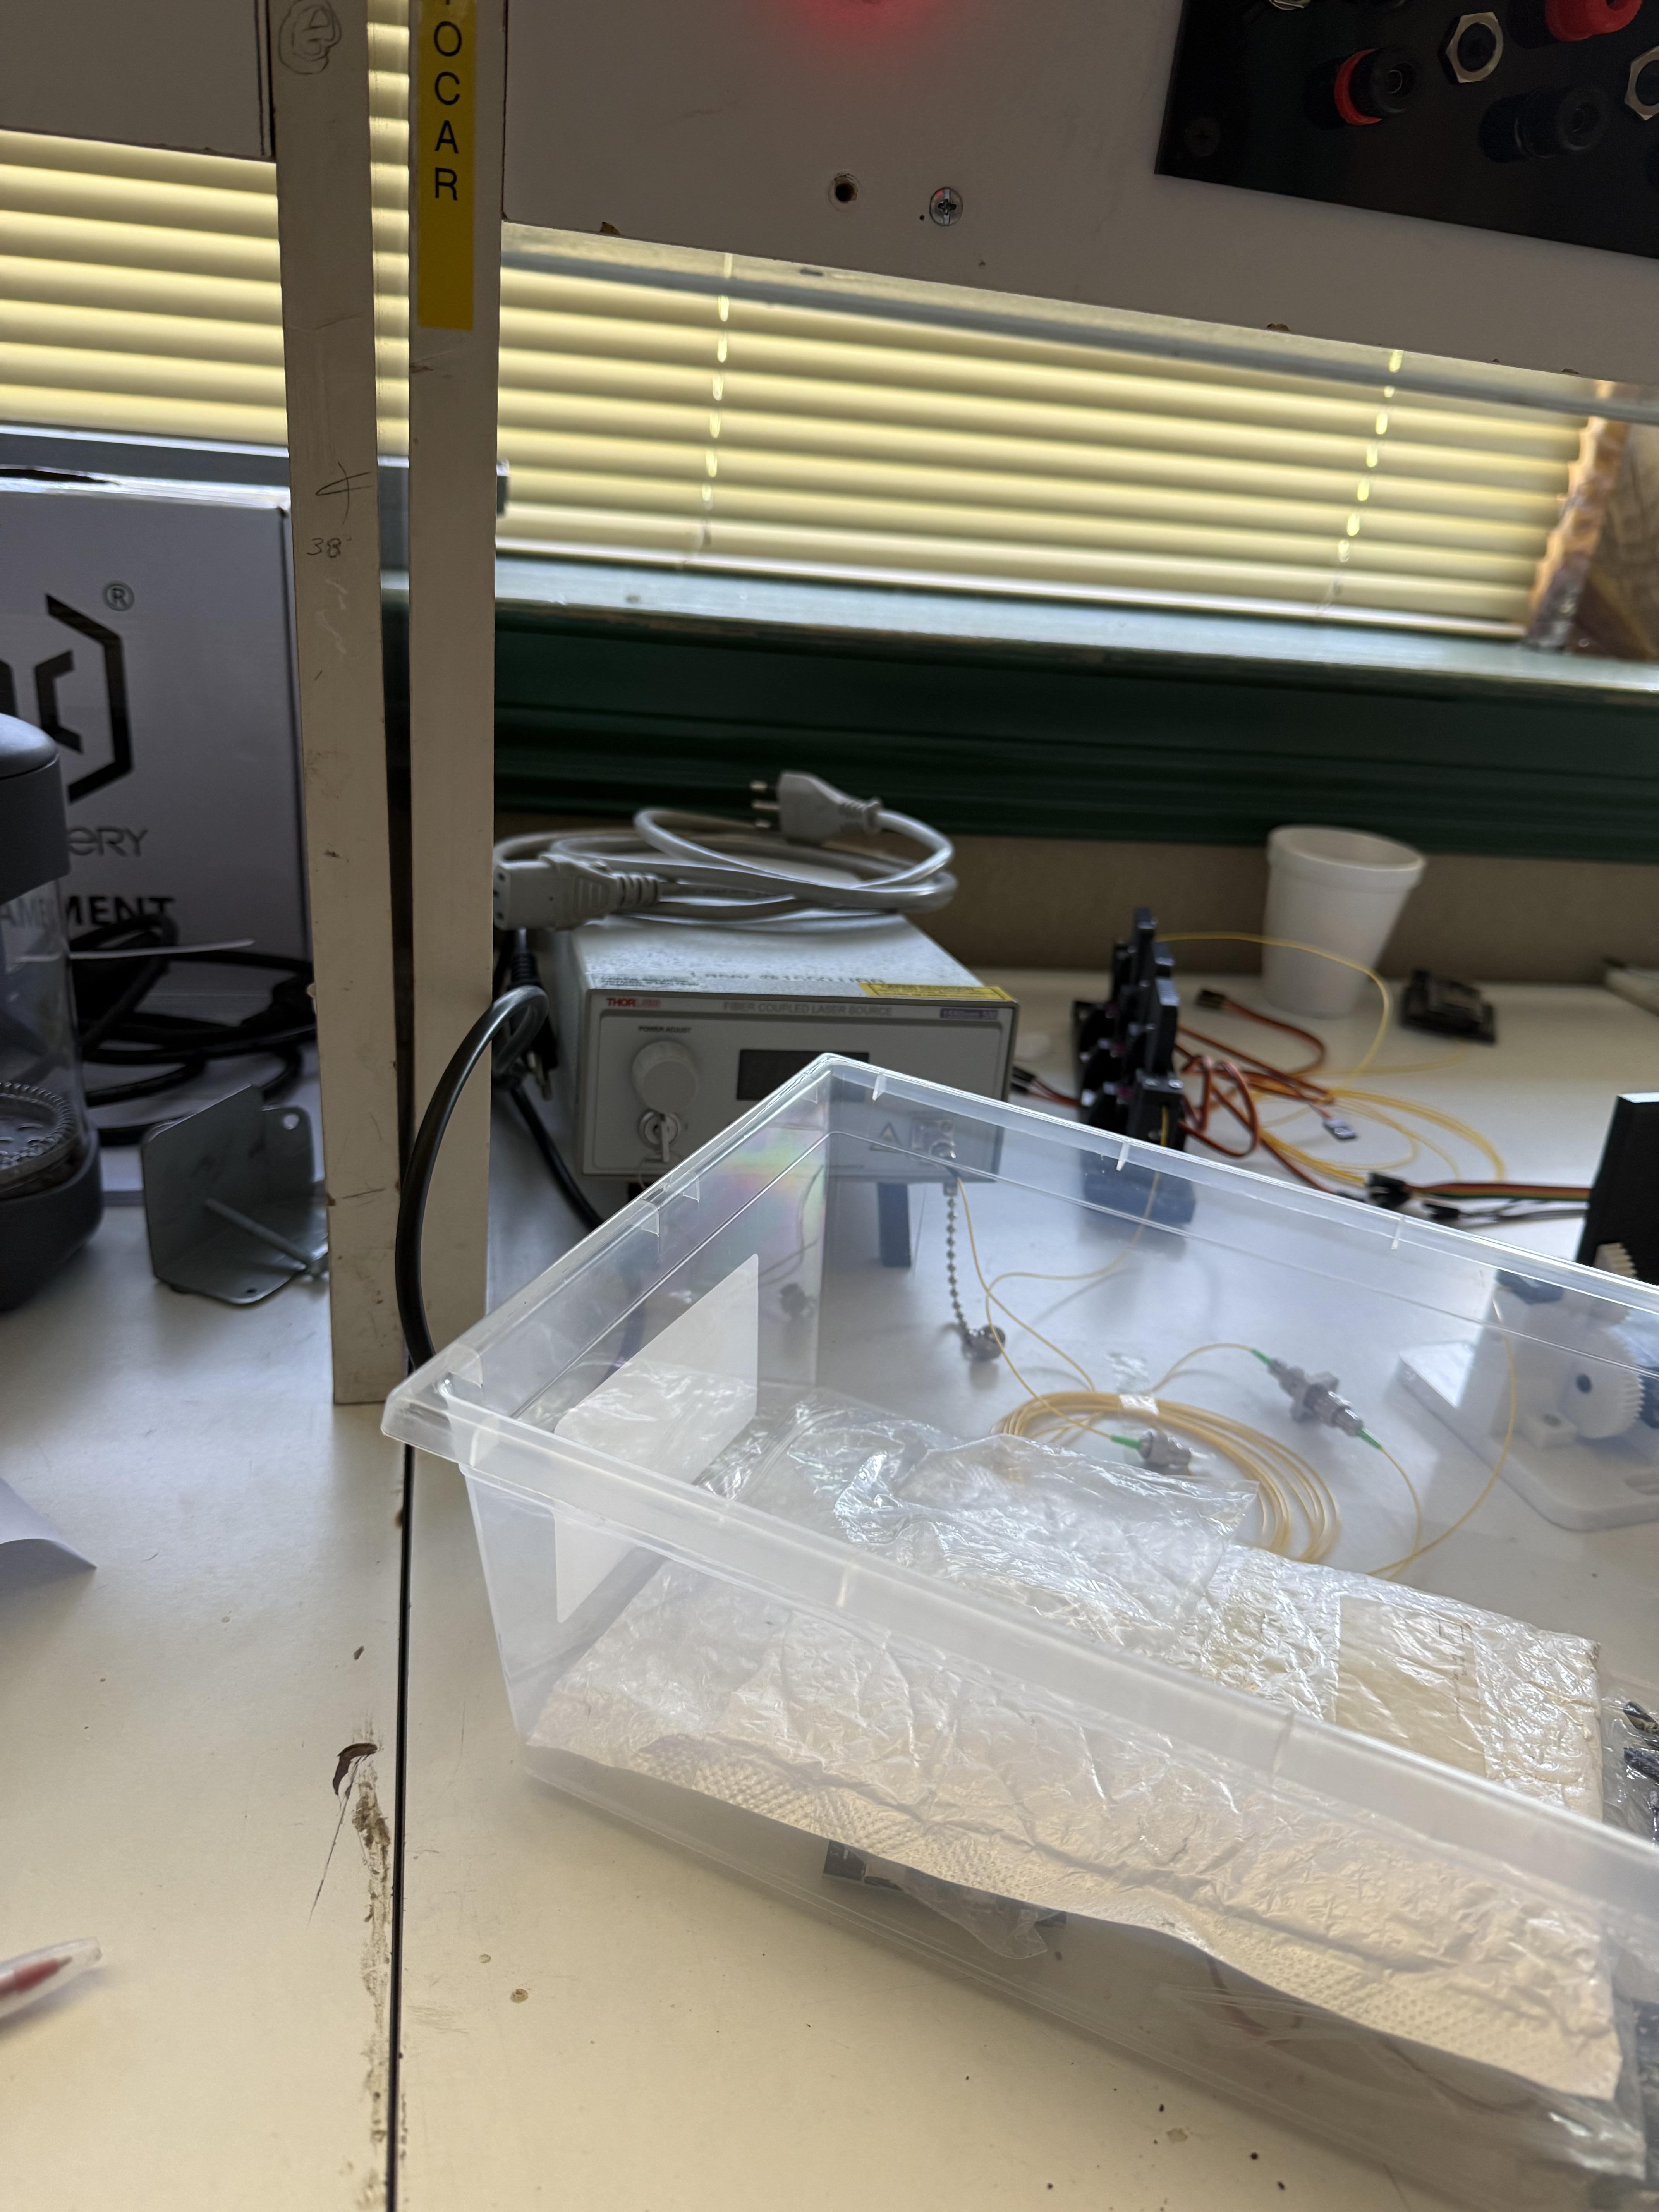laser: (484, 744, 1108, 1254)
paddle_polarization_controller: (1058, 883, 1232, 1259)
